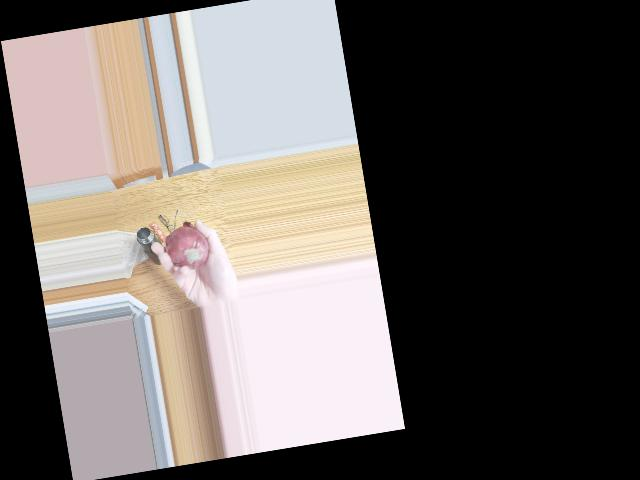onion: (170, 225, 213, 276)
